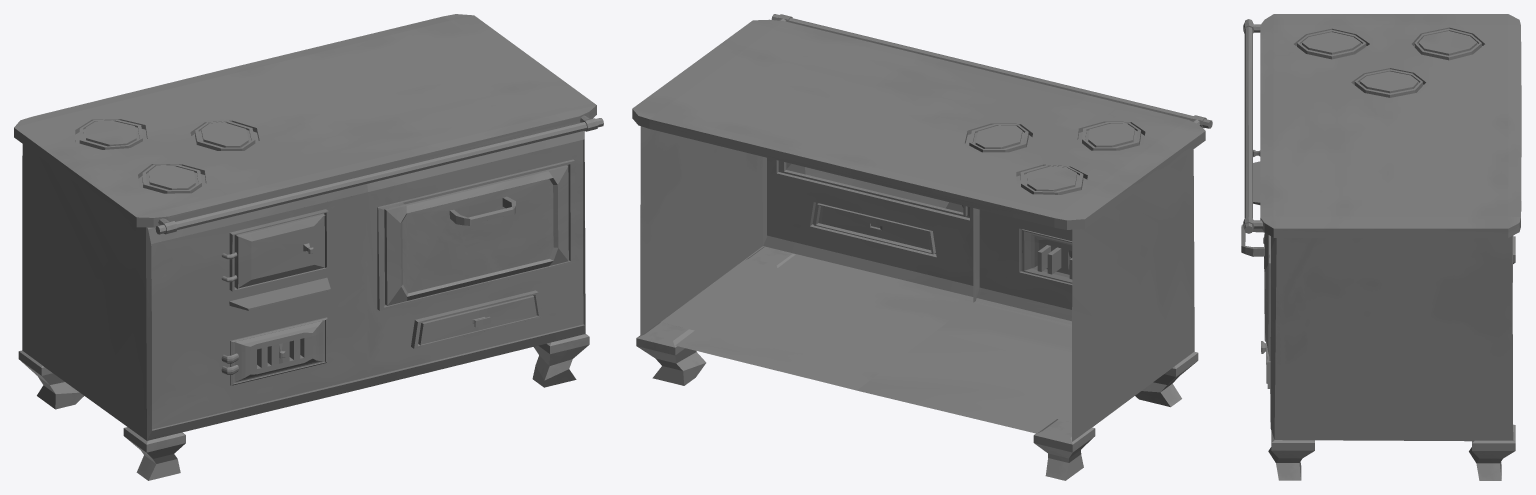
Rendered from hornococina.fbx.
3 renders of one model, left to right at view 1: azimuth 30°, elevation 25°; view 2: azimuth 150°, elevation 25°; view 3: azimuth 270°, elevation 25°, orthographic. The views are drawn at different scales.
Parts seen in each view (by area): view 1: Cube, Cube.001, Cylinder, Cube.003, Cube.002, Cube.004; view 2: Cube, Cube.001, Cube.005, Cylinder, Cube.004, Cube.002, Cube.003; view 3: Cube.001, Cube, Cylinder, Cube.005, Cube.003.
Boxes of the visible parts, x1,y1,x2,y2 form: Cube: [22, 131, 585, 440]; Cube.001: [14, 14, 596, 227]; Cylinder: [155, 118, 603, 234]; Cube.003: [532, 334, 589, 387]; Cube.002: [123, 427, 185, 480]; Cube.004: [18, 350, 83, 409]; Cube: [640, 126, 1194, 441]; Cube.001: [632, 19, 1205, 229]; Cube.005: [636, 322, 706, 385]; Cylinder: [771, 14, 1212, 128]; Cube.004: [1033, 419, 1095, 480]; Cube.002: [1135, 351, 1198, 407]; Cube.003: [745, 247, 795, 267]; Cube.001: [1260, 14, 1521, 237]; Cube: [1241, 150, 1513, 441]; Cylinder: [1244, 19, 1252, 233]; Cube.005: [1469, 424, 1515, 480]; Cube.003: [1268, 431, 1314, 480].
Size of the model in its own units: 448 by 255 by 247.
1 material, 1 textured.
